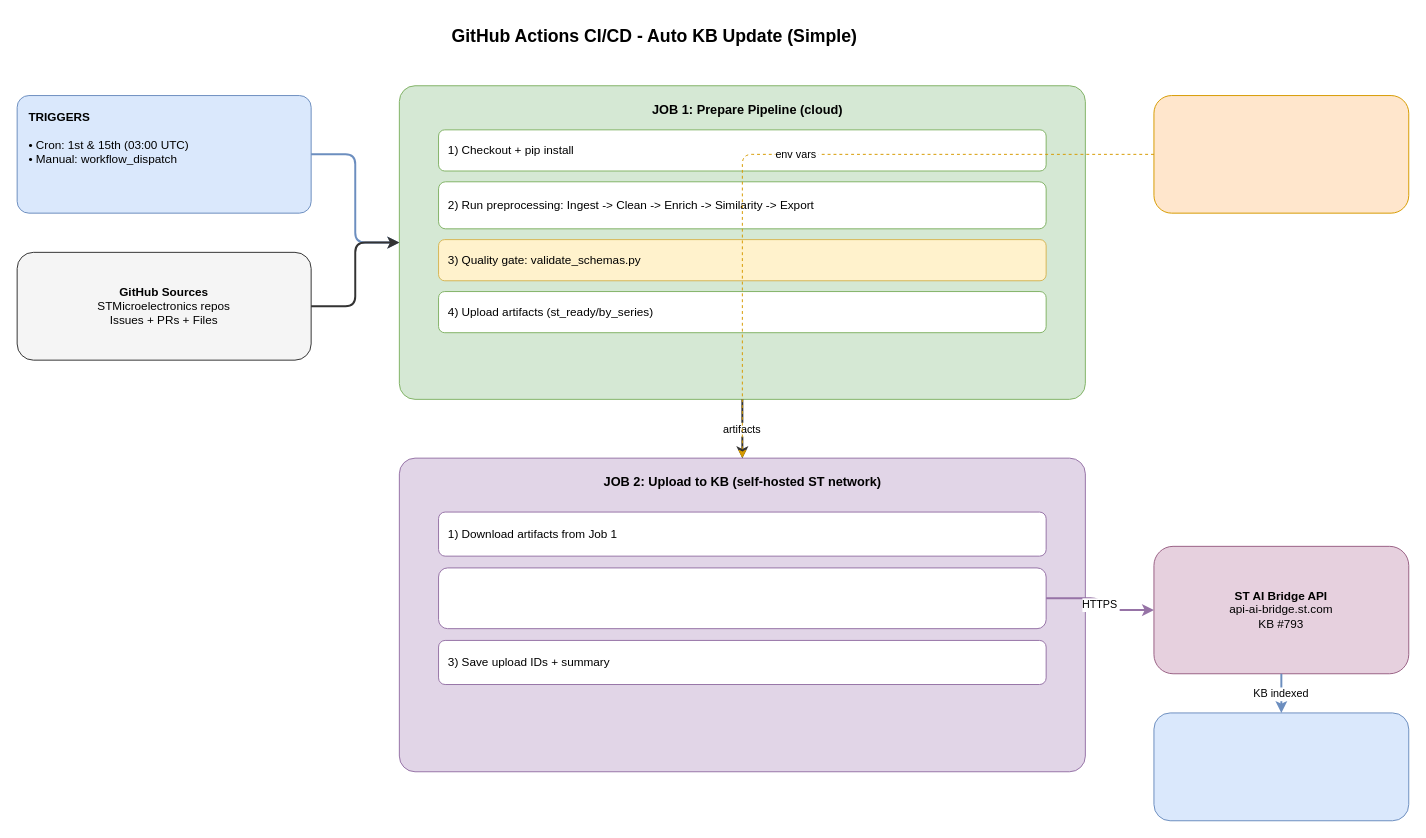
This 1426x838 diagram has some shape labels left out. The shapes that lost their labels are listed below. From the top down, each one's centre as x and y in pixels, then its label:
At pixel 1281 154: "GitHub Secrets ST_CHATGPT_API_KEY ST_REMOTE_USER".
At pixel 742 598: "2) Upload JSON to datasources (new/add) parent + drivers/subrepos".
At pixel 1281 766: "Persona: ST GitHub Analyzer KB-first answers Alfred fallback".
